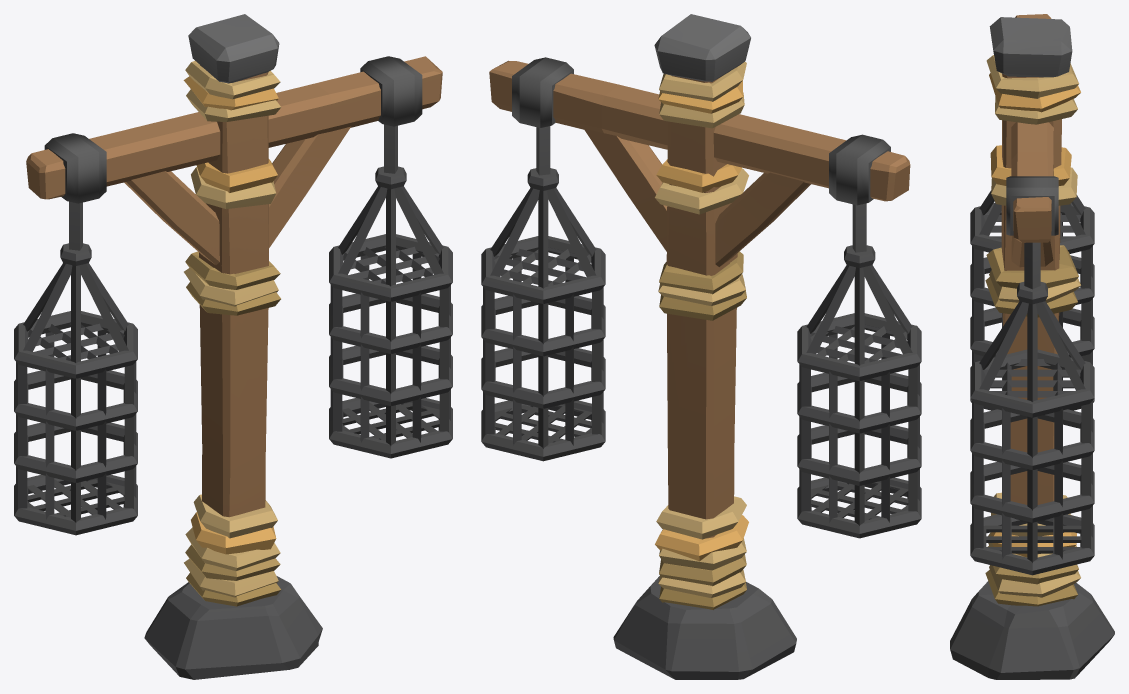
File: Scaffold_B.fbx
3 views of the same model, side by side, from view 1: azimuth 30°, elevation 25°; view 2: azimuth 150°, elevation 25°; view 3: azimuth 270°, elevation 25° (orthographic).
Visible parts, largest first — view 1: Scaffold_B; view 2: Scaffold_B; view 3: Scaffold_B.
Part boxes in pixels (left/top/right/bottom): Scaffold_B: left=14, top=14, right=452, bottom=679; Scaffold_B: left=481, top=14, right=921, bottom=679; Scaffold_B: left=950, top=14, right=1114, bottom=679.
Size of the model in its own units: 350 by 469 by 113.
